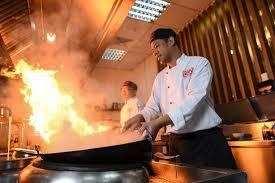fire: (8, 58, 107, 141)
